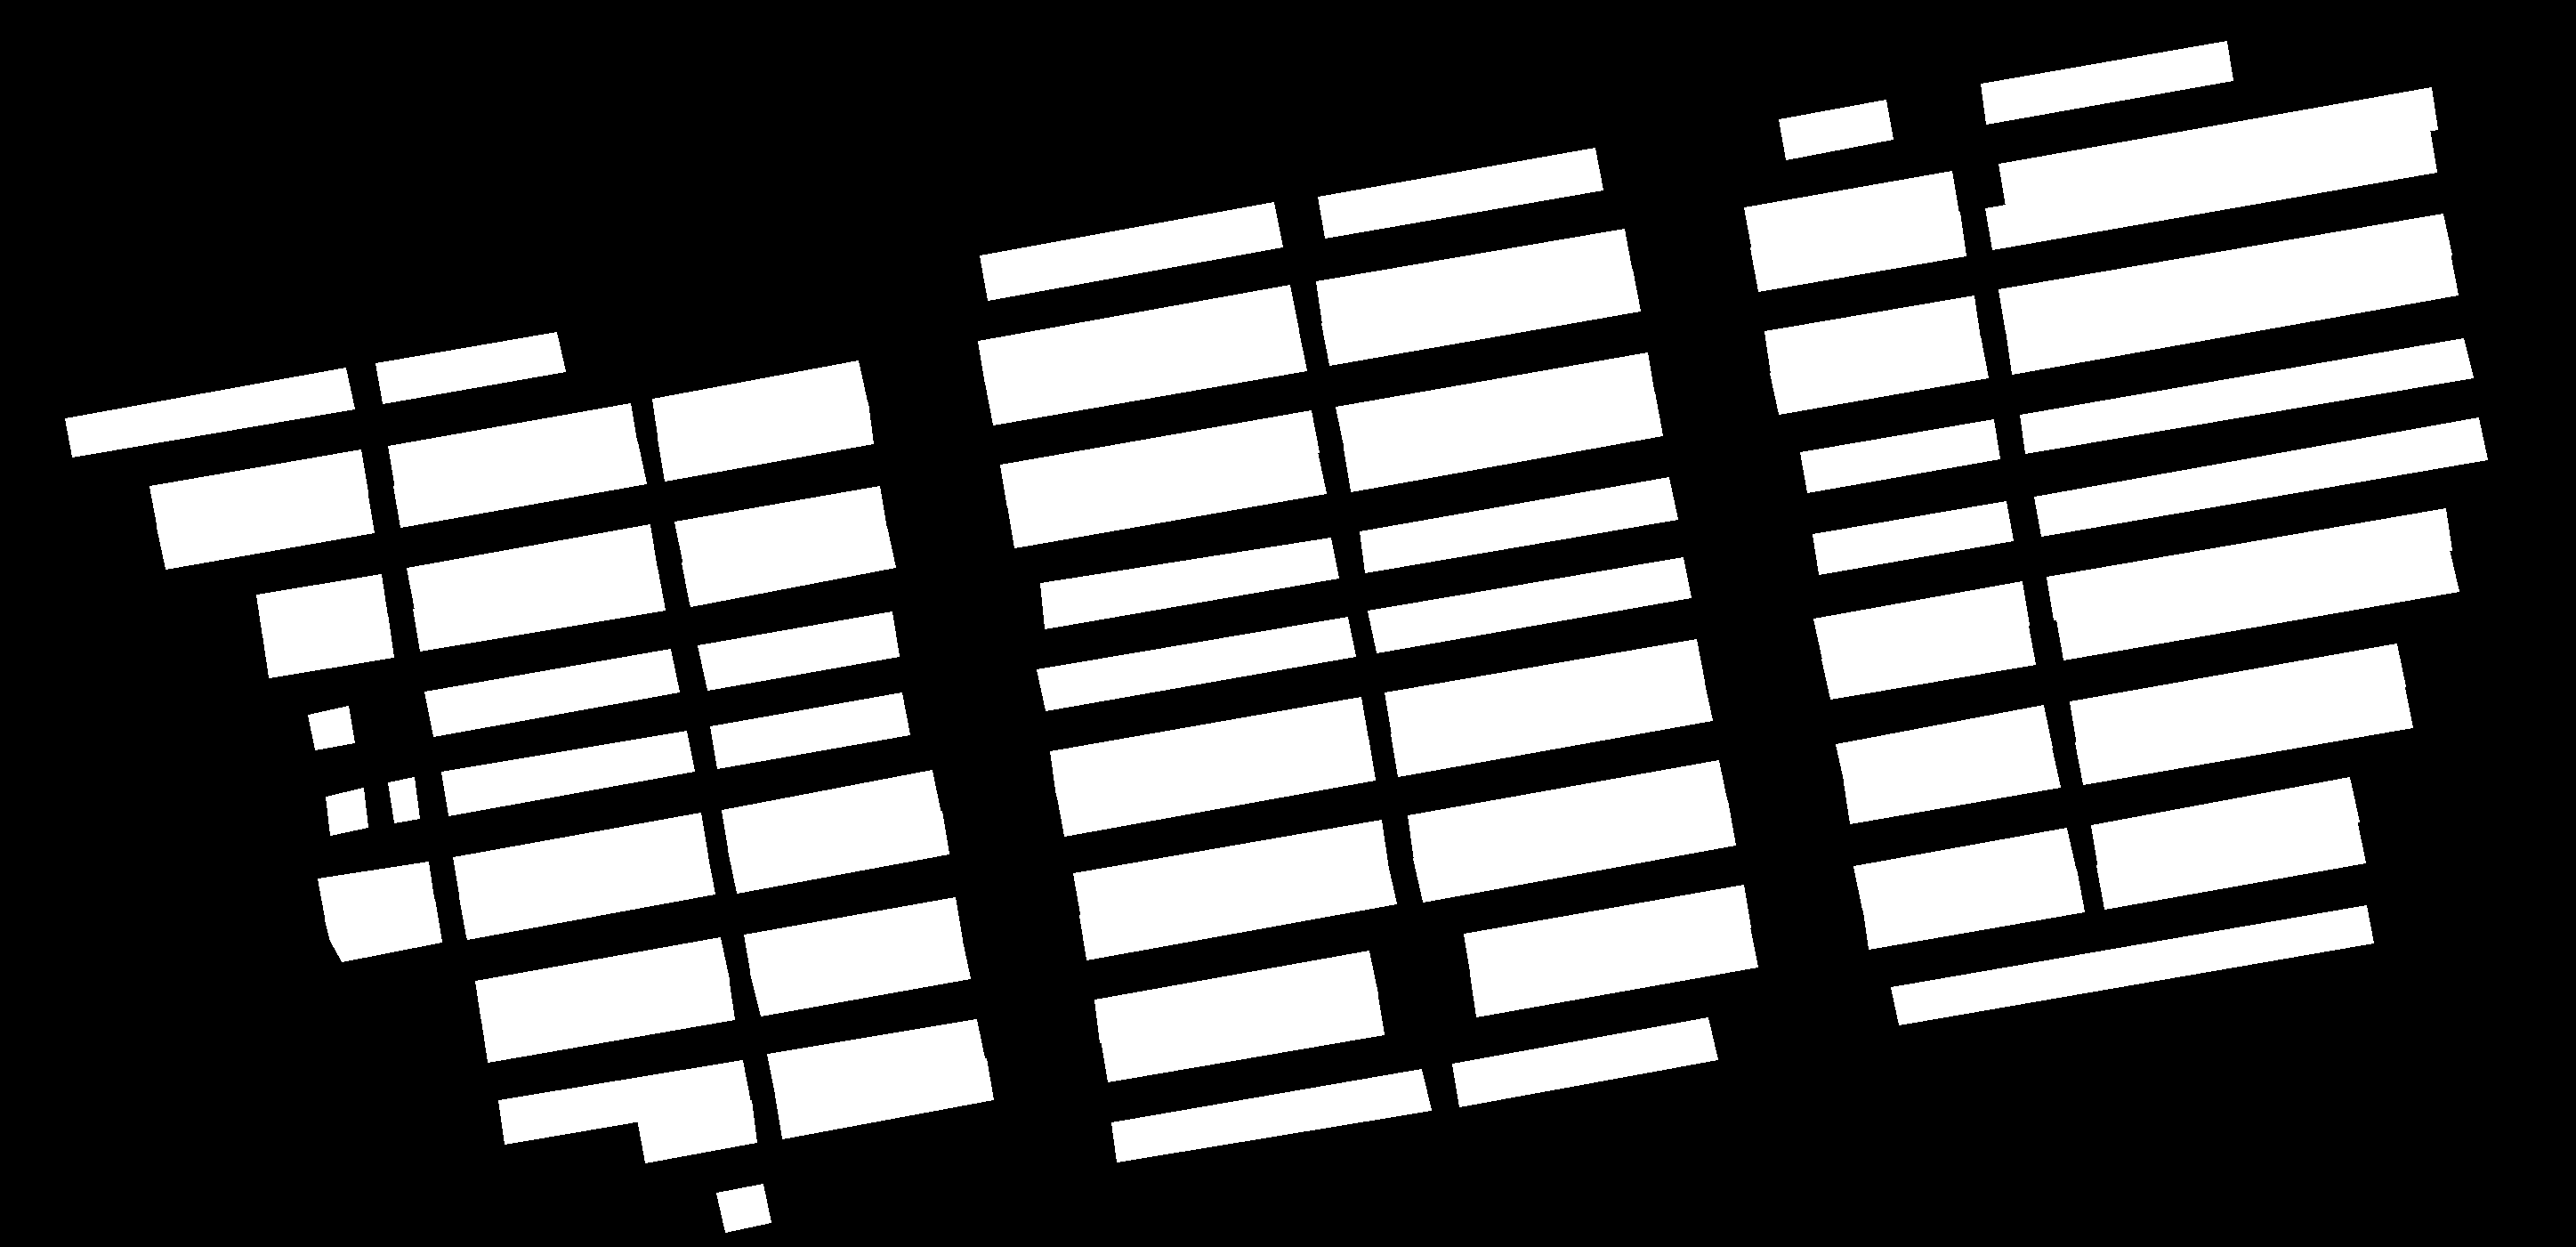parkingspot: (1891, 905, 2374, 1025), (2006, 253, 2458, 375), (1998, 214, 2451, 334), (1985, 130, 2436, 250), (2034, 417, 2487, 536), (2019, 338, 2472, 453), (1998, 87, 2438, 205), (2047, 508, 2451, 619), (2057, 549, 2459, 659), (2075, 683, 2412, 784), (2070, 644, 2405, 744), (1413, 800, 1735, 902), (977, 284, 1298, 384), (1344, 391, 1663, 491), (1079, 859, 1396, 959), (1056, 738, 1375, 836), (1408, 761, 1727, 859), (1050, 697, 1367, 795), (986, 327, 1306, 424), (1392, 679, 1712, 775), (1073, 820, 1387, 918), (1001, 411, 1319, 508), (1336, 353, 1654, 450), (1367, 557, 1690, 652), (1007, 452, 1326, 547), (1385, 639, 1704, 734), (1321, 269, 1640, 365), (1360, 476, 1677, 572), (1316, 228, 1631, 324), (1037, 616, 1355, 710), (979, 202, 1281, 301), (1111, 1070, 1431, 1162), (1040, 537, 1339, 628), (1464, 886, 1750, 978), (1470, 927, 1758, 1017), (1318, 148, 1602, 238), (66, 368, 355, 457), (1094, 951, 1377, 1042), (1101, 991, 1383, 1081), (2096, 818, 2366, 909), (2091, 777, 2359, 867), (1452, 1017, 1717, 1106), (458, 851, 715, 940), (424, 649, 678, 736), (453, 813, 708, 899), (475, 936, 729, 1022), (393, 442, 646, 527), (481, 976, 734, 1061), (388, 403, 637, 488), (407, 524, 657, 610), (412, 567, 665, 651), (498, 1060, 751, 1143), (442, 731, 693, 815), (1981, 41, 2233, 123), (1853, 828, 2077, 910), (721, 771, 940, 853), (728, 812, 948, 892), (1863, 869, 2083, 950), (652, 360, 867, 442), (767, 1019, 986, 1099), (775, 1058, 992, 1139), (149, 450, 368, 529), (751, 936, 969, 1015), (1769, 335, 1988, 414), (682, 526, 895, 606), (1745, 171, 1958, 251), (1835, 705, 2052, 784), (744, 897, 961, 976), (657, 403, 872, 481), (1750, 212, 1965, 291), (1764, 296, 1980, 375), (156, 491, 373, 568), (1814, 582, 2029, 659), (675, 486, 885, 565), (1822, 621, 2035, 698), (1843, 748, 2060, 823), (698, 611, 899, 690), (710, 692, 910, 769), (1801, 419, 1999, 493), (1812, 501, 2012, 573), (376, 332, 565, 403), (263, 613, 393, 677), (256, 573, 388, 636), (637, 1101, 756, 1163), (325, 899, 442, 961), (317, 861, 434, 922), (1779, 100, 1893, 159), (716, 1185, 770, 1232), (325, 787, 368, 835), (307, 706, 355, 749), (388, 777, 419, 823)
